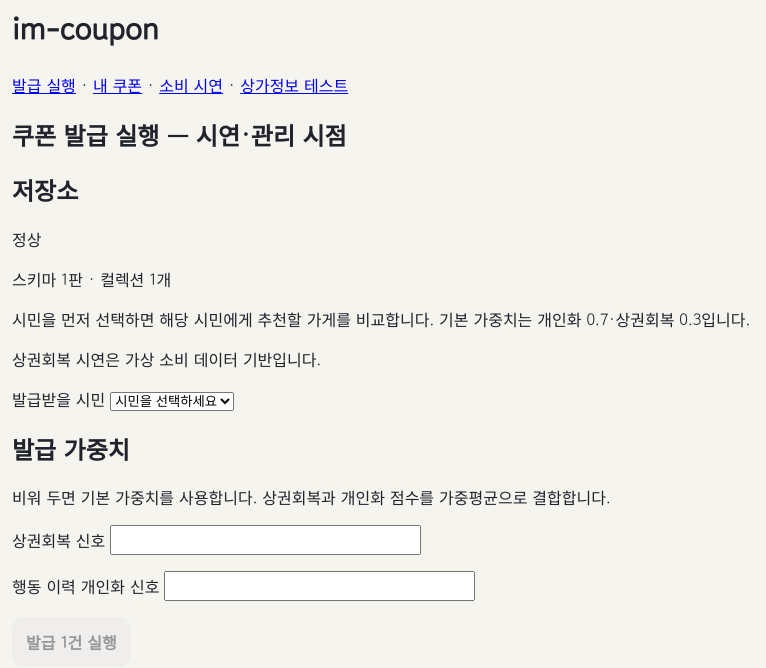
Scenario: App › 내 쿠폰 링크를 누르면 그 링크가 선택되고 내 쿠폰 화면으로 바뀐다
Expected: the text "정상" is shown, [12,227,42,251]
Click the link "내 쿠폰": (118, 85) [93,73,142,97]
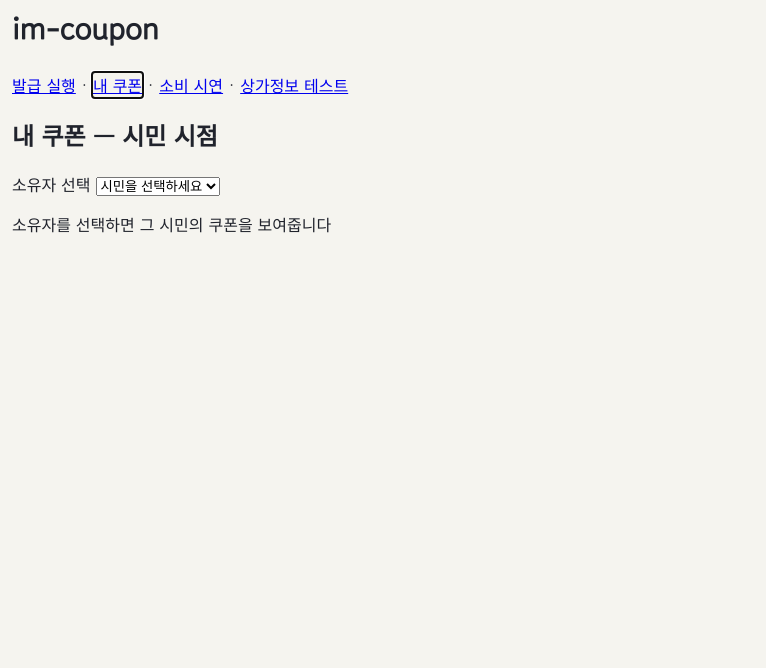
Expected: the dropdown labelled "소유자 선택" is shown, [96,177,220,196]
Expected: the heading "내 쿠폰 — 시민 시점" is shown, [12,117,218,152]
Expected: the text "정상" is gone
